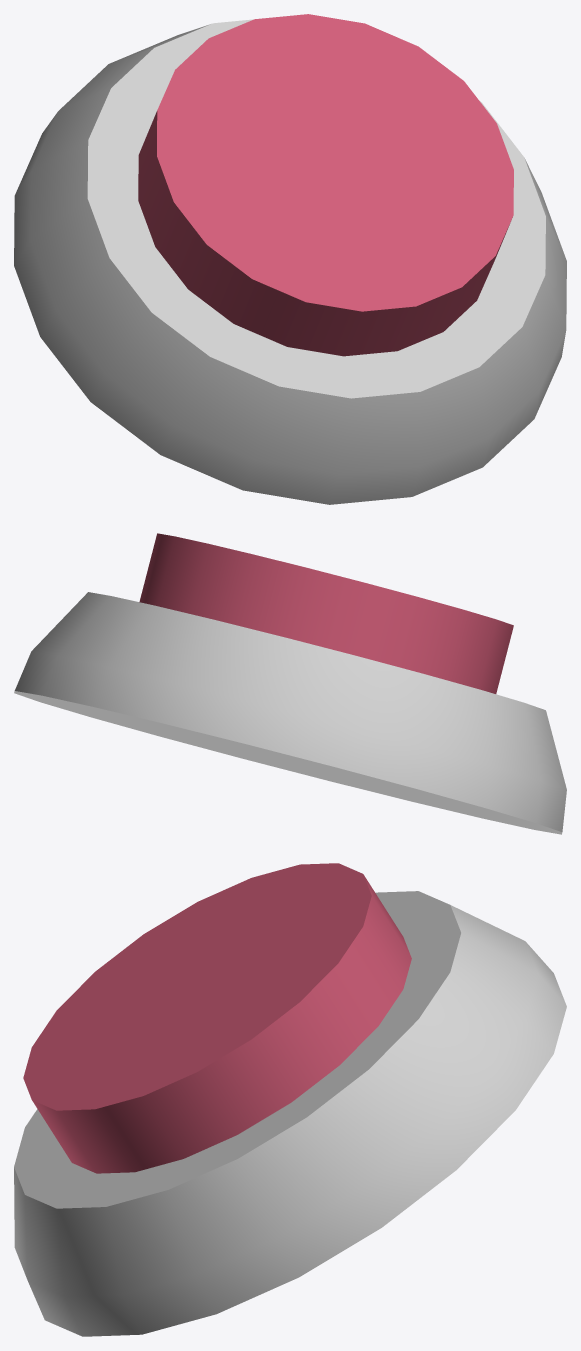
The model's file is button.fbx.
3 views of the same model, one above another, from view 1: azimuth 30°, elevation 25°; view 2: azimuth 150°, elevation 25°; view 3: azimuth 270°, elevation 25° (orthographic). The views are drawn at different scales.
Visible parts, largest first — view 1: obj2, obj3; view 2: obj2, obj3; view 3: obj2, obj3.
Part boxes in pixels (<box>): obj2: <box>14,19,566,504</box>; obj3: <box>138,14,513,356</box>; obj2: <box>14,592,566,834</box>; obj3: <box>139,533,513,693</box>; obj2: <box>14,891,566,1336</box>; obj3: <box>23,863,411,1173</box>.
Bounding box in the file's own units: 90.95 × 63.49 × 81.37.
